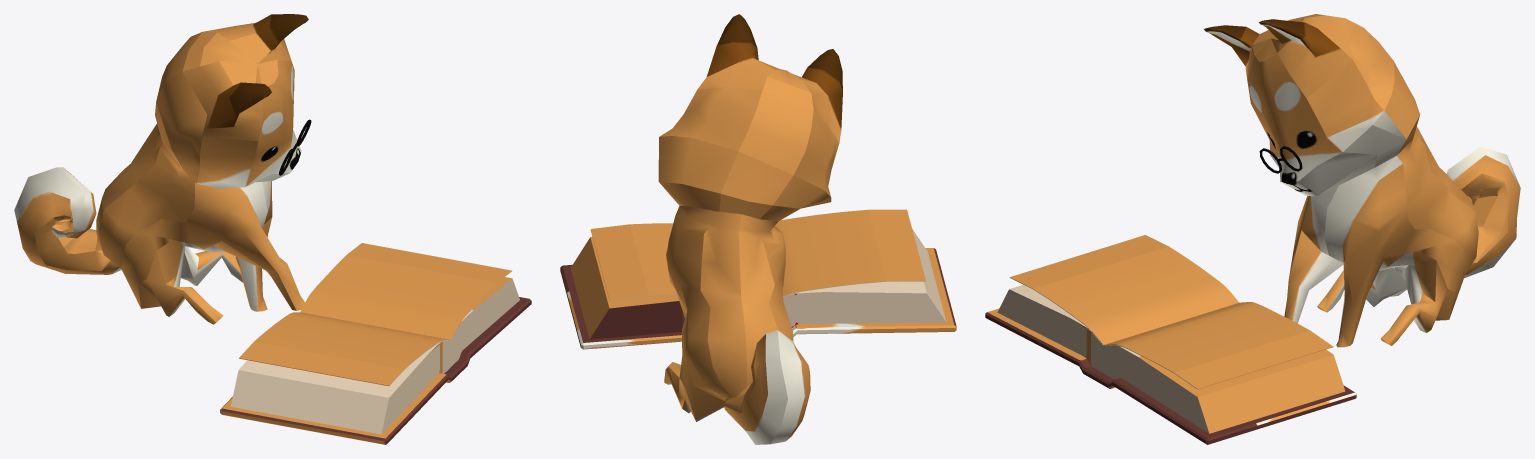
Rendered from book_frame29.obj.
3 renders of one model, left to right at view 1: azimuth 30°, elevation 25°; view 2: azimuth 150°, elevation 25°; view 3: azimuth 270°, elevation 25°, orthographic. The views are drawn at different scales.
Visible parts, largest first — view 1: StidyGlasses_Computer_Sitting:Sitting:newRigging:BodzL1, polySurface1; view 2: StidyGlasses_Computer_Sitting:Sitting:newRigging:BodzL1, polySurface1; view 3: StidyGlasses_Computer_Sitting:Sitting:newRigging:BodzL1, polySurface1.
Boxes of the visible parts, left/top/right/bottom form: StidyGlasses_Computer_Sitting:Sitting:newRigging:BodzL1: left=14, top=14, right=308, bottom=324; polySurface1: left=220, top=243, right=531, bottom=444; StidyGlasses_Computer_Sitting:Sitting:newRigging:BodzL1: left=658, top=14, right=842, bottom=444; polySurface1: left=560, top=209, right=956, bottom=349; StidyGlasses_Computer_Sitting:Sitting:newRigging:BodzL1: left=1204, top=14, right=1520, bottom=347; polySurface1: left=985, top=235, right=1356, bottom=444.
Bounding box in the file's own units: 9.17 × 7.45 × 11.03.
Materials: 4 (4 with a texture image).
